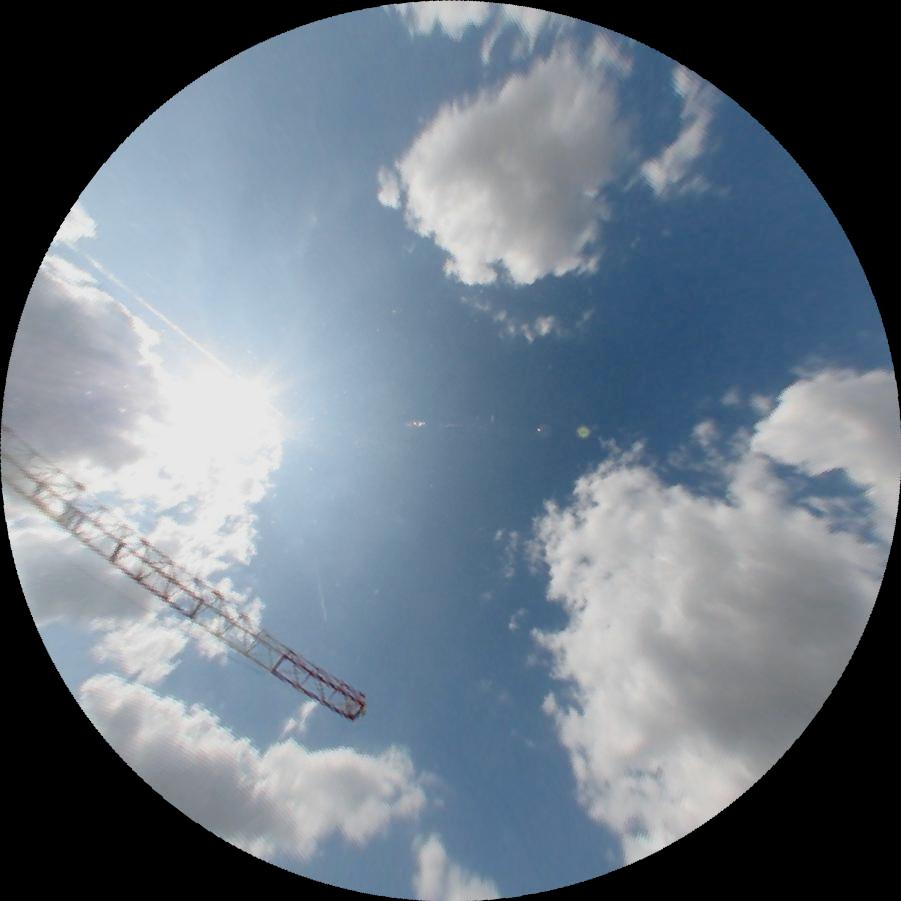contrail young: (313, 556, 327, 622)
parasite: (53, 230, 283, 416)
sun: (162, 353, 279, 468)
